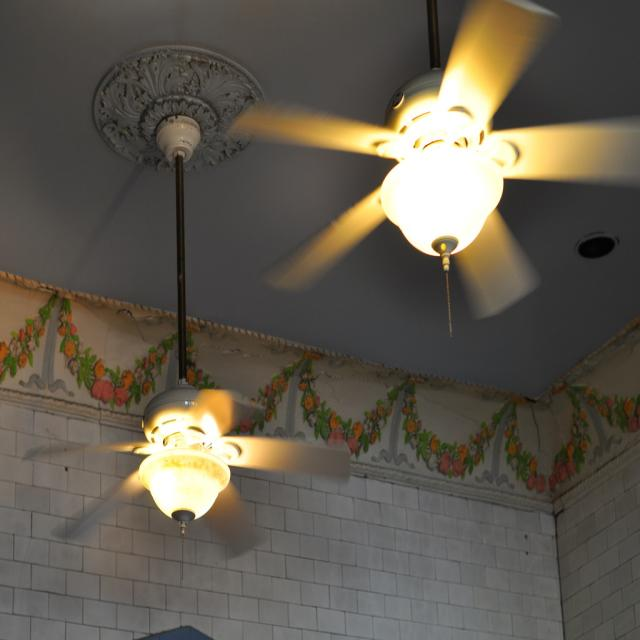Bulb: (26, 111, 354, 572), (26, 117, 351, 571), (228, 0, 640, 338)
